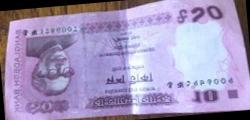10 taka: (9, 19, 246, 108)
